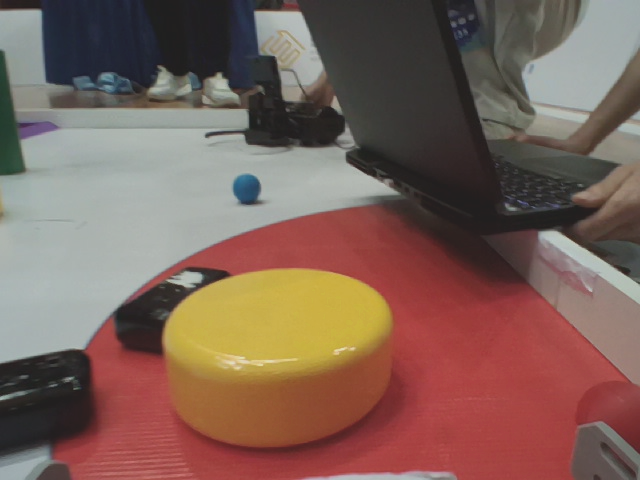black: (1, 342, 111, 447), (120, 262, 234, 355)
blue: (223, 169, 270, 211)
kuang: (1, 111, 71, 157)
red: (551, 359, 640, 446)
yellow: (157, 268, 397, 441)
zhuzi: (1, 48, 35, 180)
